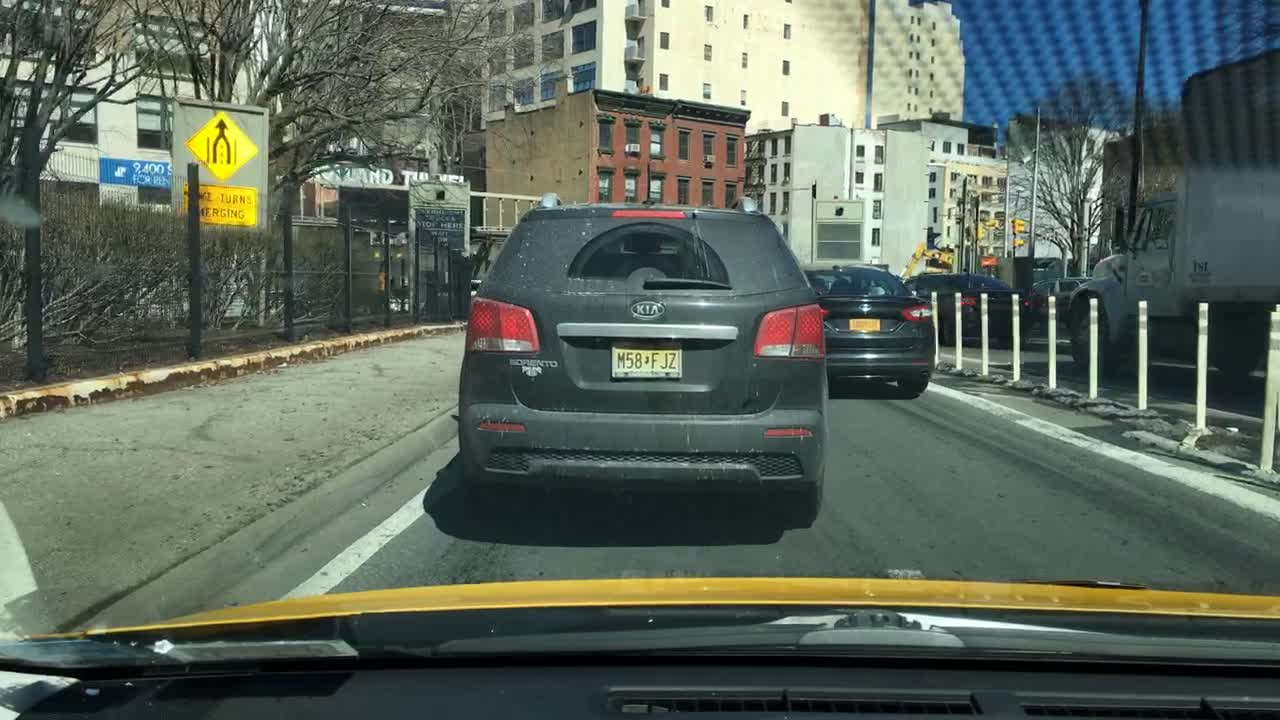car: (449, 192, 828, 526), (795, 261, 938, 397), (902, 271, 1029, 348), (1024, 275, 1098, 332), (461, 228, 516, 298)
traffic light: (1011, 216, 1025, 233), (974, 221, 984, 239), (1013, 236, 1024, 248)
traffic sign: (183, 112, 261, 181), (181, 182, 260, 226)
truck: (1069, 44, 1278, 382)
